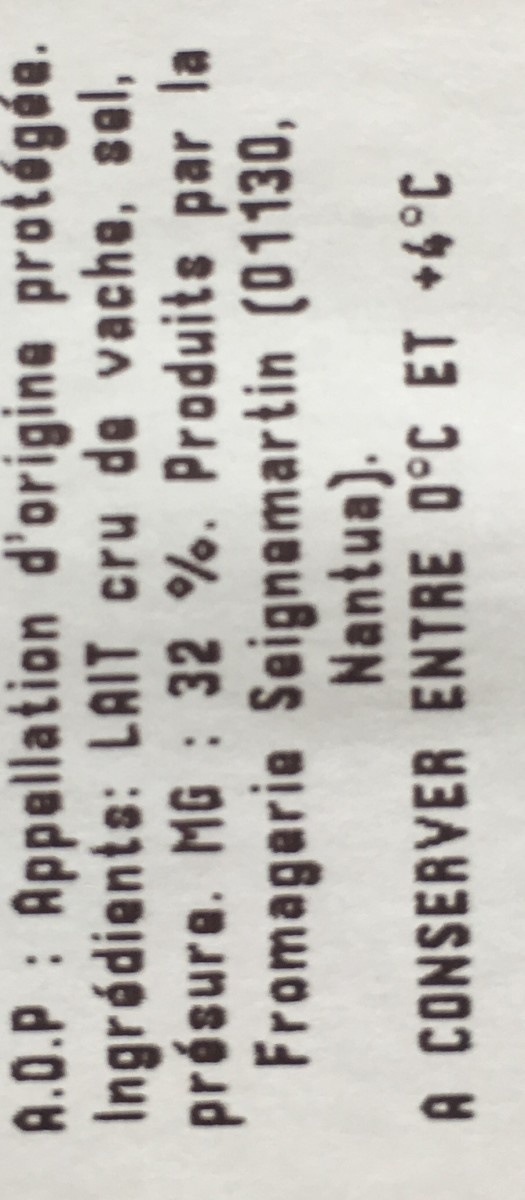ingredients: (68, 4, 399, 1171)
